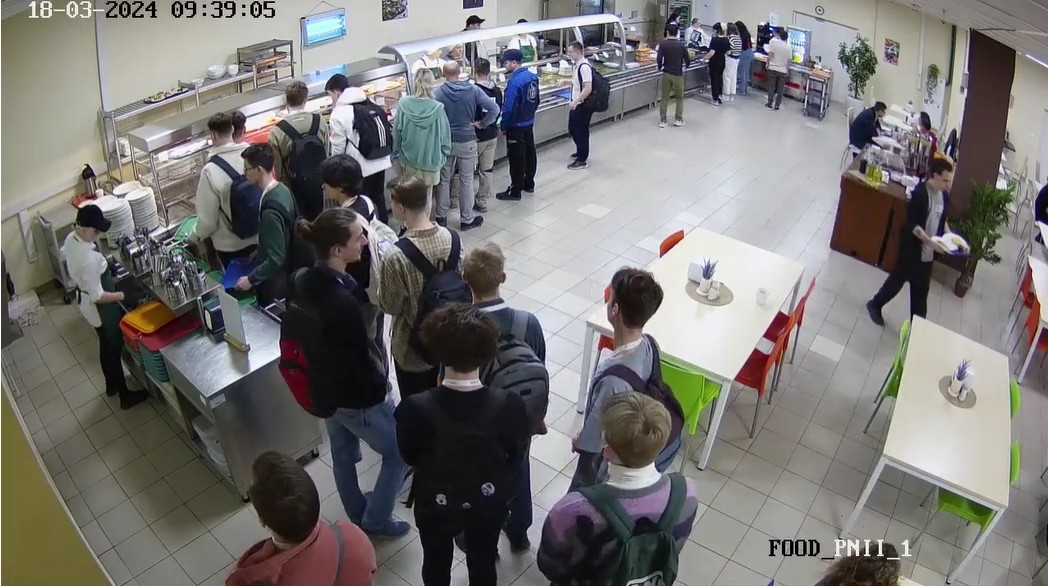Na_Kasse: (766, 37, 789, 104), (735, 15, 752, 96), (708, 27, 726, 100), (725, 20, 738, 102)
Ne_v_Ocheredi: (289, 222, 414, 540), (404, 318, 540, 586), (551, 386, 690, 586), (213, 439, 381, 586), (375, 169, 461, 335), (877, 162, 962, 319), (584, 280, 674, 418), (454, 245, 551, 371), (808, 523, 905, 586), (315, 154, 357, 217)
Personal: (61, 196, 141, 405), (505, 15, 533, 50), (422, 42, 446, 70), (463, 8, 486, 33), (685, 15, 704, 38), (453, 37, 472, 56)
Vybiraet: (231, 137, 307, 315), (180, 107, 241, 278), (440, 59, 487, 234), (328, 66, 384, 180), (264, 77, 319, 177), (401, 57, 444, 183), (501, 50, 530, 200), (565, 44, 596, 176), (472, 48, 495, 176), (657, 22, 683, 129)
Za_Stolom: (846, 99, 887, 160), (1028, 163, 1048, 257), (903, 107, 928, 141)
